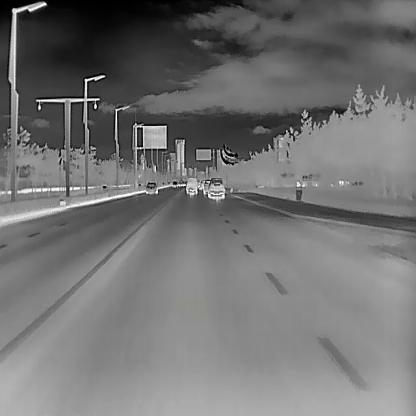car: (207, 177, 226, 199), (184, 177, 198, 193), (144, 182, 158, 194), (200, 178, 211, 193)
